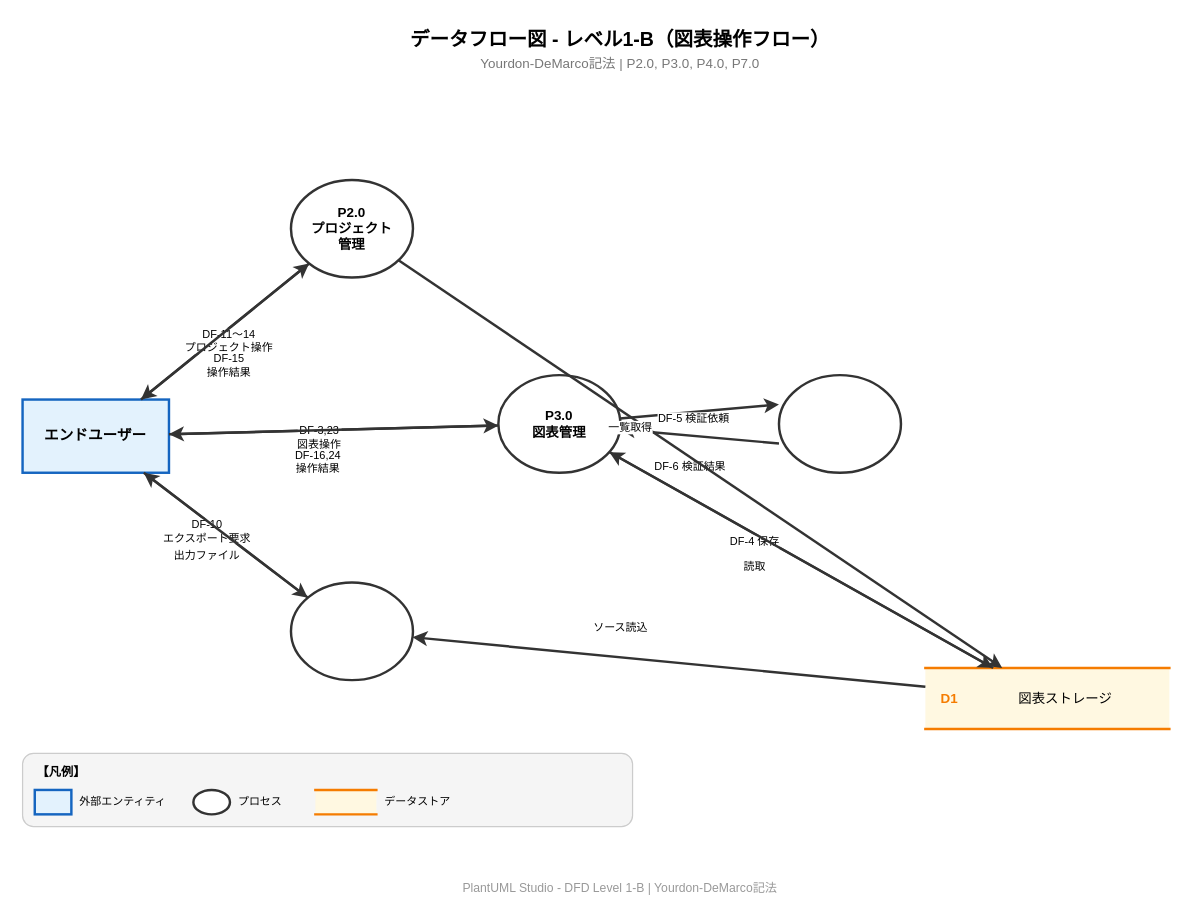
This 1191x920 diagram has some shape labels left out. Here are the shapes that lost their labels. From the top down, the centre of each, then its label:
At (839,423): "P4.0 検証・ レンダリング".
At (351,631): "P7.0 エクスポート".
